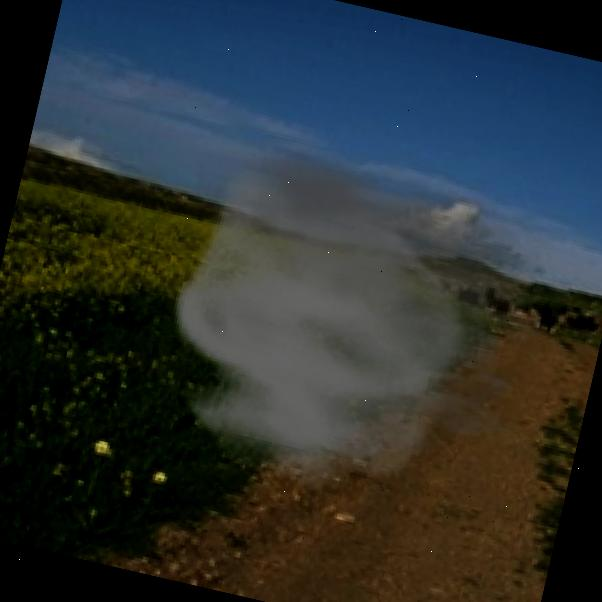smoke: (133, 114, 602, 539)
